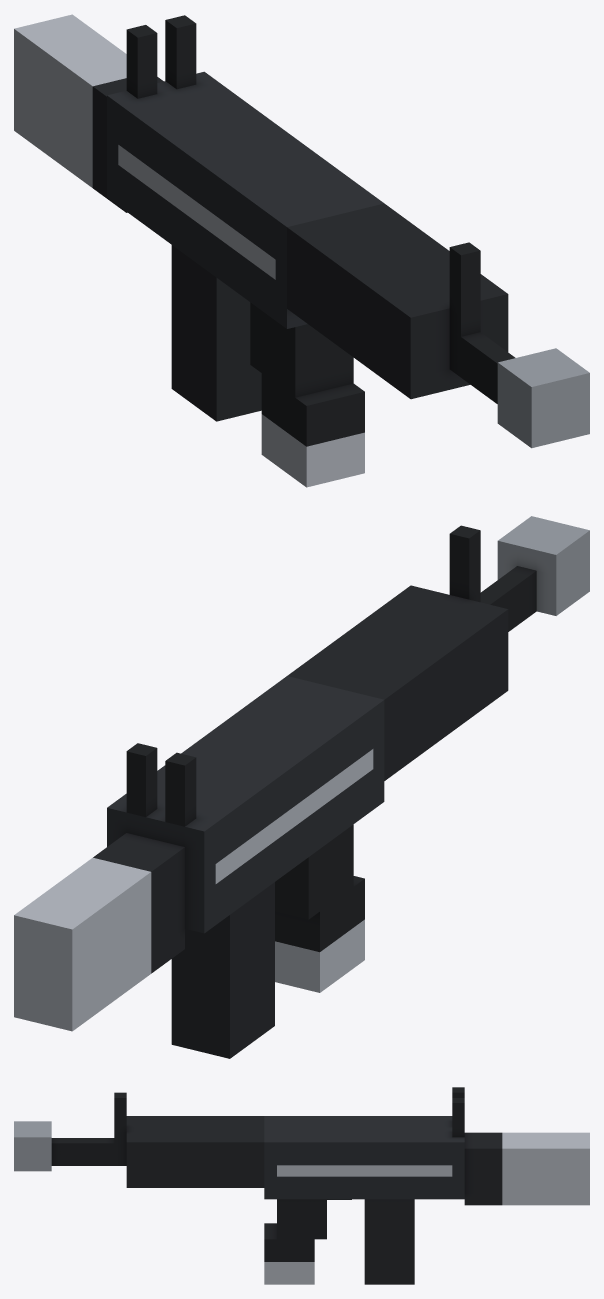
File: trailblazer_common.glb
3 renders of one model, top to bottom at view 1: azimuth 30°, elevation 25°; view 2: azimuth 150°, elevation 25°; view 3: azimuth 270°, elevation 25°, orthographic. The views are drawn at different scales.
Visible parts, largest first — view 1: trailblazer_common_body; view 2: trailblazer_common_body; view 3: trailblazer_common_body.
Boxes of the visible parts, left/top/right/bottom form: trailblazer_common_body: left=14, top=14, right=589, bottom=487; trailblazer_common_body: left=14, top=516, right=589, bottom=1058; trailblazer_common_body: left=14, top=1087, right=589, bottom=1284.
Size of the model in its own units: 0.1953 by 0.625 by 1.8.
Materials: 1 (1 with a texture image).
